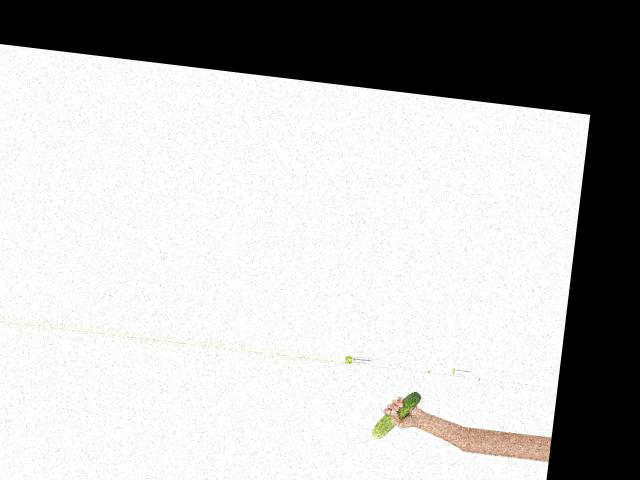cucumber: (372, 386, 423, 442)
